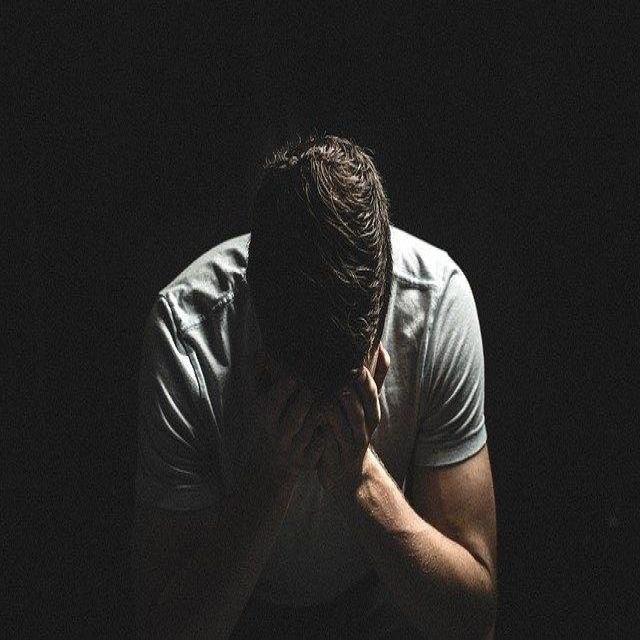person: (114, 104, 499, 638)
